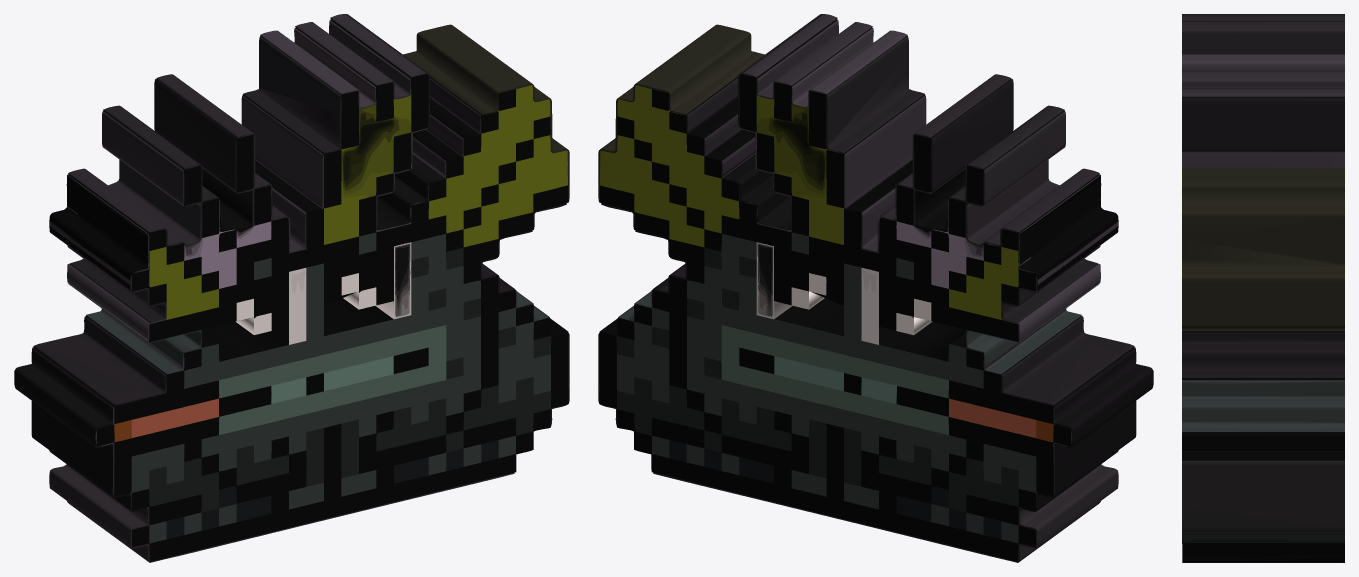
The model's file is Toadz_6173.glb.
The picture shows the model from 3 angles, left to right: view 1: azimuth 30°, elevation 25°; view 2: azimuth 150°, elevation 25°; view 3: azimuth 270°, elevation 25°; orthographic projection.
Visible parts, largest first — view 1: Curve; view 2: Curve; view 3: Curve.
Part boxes in pixels (box(x1,y1,x2,y2)): Curve: box(14, 14, 569, 562); Curve: box(598, 14, 1153, 562); Curve: box(1182, 14, 1344, 562).
Size of the model in its own units: 3.38 by 2.88 by 1.
